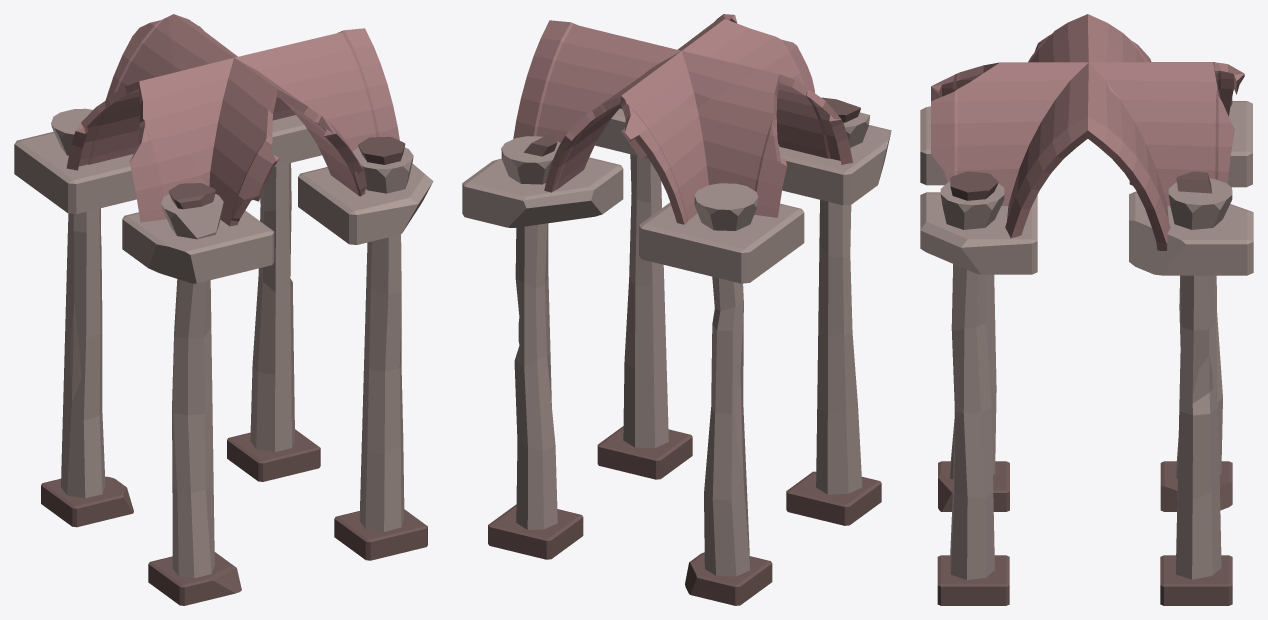
Rendered from Afine.fbx.
The picture shows the model from 3 angles, left to right: view 1: azimuth 30°, elevation 25°; view 2: azimuth 150°, elevation 25°; view 3: azimuth 270°, elevation 25°; orthographic projection. The views are drawn at different scales.
Parts seen in each view (by area): view 1: Cylinder.003, Cylinder.007, Cylinder.004, Cylinder.005, Cylinder.002, Cube.030, Cube.028, Cube.027, Cube.035, Cube.033, Cube.034, Cube.031 (+6 smaller); view 2: Cylinder.003, Cylinder.005, Cylinder.002, Cylinder.007, Cylinder.004, Cube.027, Cube.029, Cube.030, Cube.035, Cube.033, Cube.034, Cube.031 (+4 smaller); view 3: Cylinder.003, Cylinder.002, Cylinder.004, Cube.029, Cube.028, Cube.035, Cube.033, Cylinder.006, Cube.027, Cylinder.009, Cylinder.007, Cube.034 (+5 smaller).
Boxes of the visible parts, x1,y1,x2,y2 form: Cylinder.003: (66,14,399,226); Cylinder.007: (172,279,214,578); Cylinder.004: (359,234,404,531); Cylinder.005: (61,208,105,498); Cylinder.002: (250,163,294,452); Cube.030: (122,210,274,283); Cube.028: (298,163,433,244); Cube.027: (14,131,136,214); Cube.035: (227,429,320,481); Cube.033: (334,509,427,560); Cube.034: (148,552,241,605); Cube.031: (41,476,133,527); Cylinder.003: (513,14,852,224); Cylinder.005: (704,276,750,576); Cylinder.002: (514,223,557,529); Cylinder.007: (816,200,862,494); Cylinder.004: (623,154,668,448); Cube.027: (639,202,804,283); Cube.029: (462,157,623,227); Cube.030: (778,125,891,205); Cube.035: (488,504,583,559); Cube.033: (597,426,692,479); Cube.034: (786,471,881,525); Cube.031: (685,552,772,605); Cylinder.003: (931,14,1244,250); Cylinder.002: (1176,275,1221,579); Cylinder.004: (949,264,994,579); Cube.029: (1129,191,1253,275); Cube.028: (920,192,1037,274); Cube.035: (1160,555,1232,605); Cube.033: (937,555,1009,605); Cylinder.006: (1168,178,1232,229); Cube.027: (1129,101,1252,187); Cylinder.009: (940,182,1004,229); Cylinder.007: (950,274,996,479); Cube.034: (938,461,1009,511).
Bounding box in the file's own units: 471 × 745 × 465.
